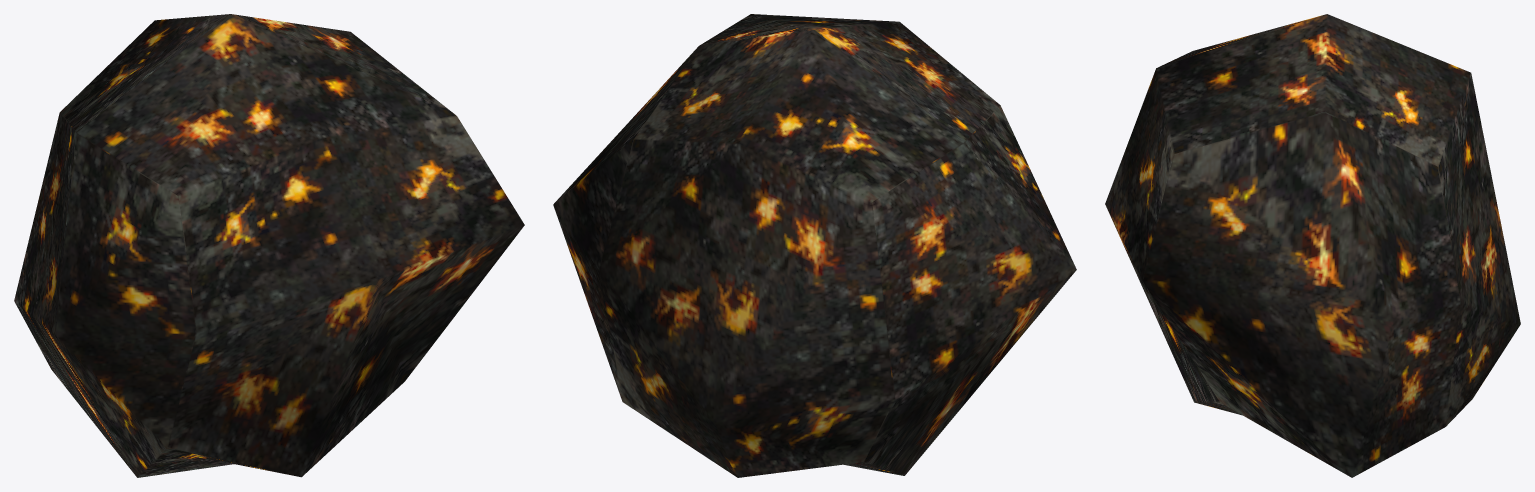
The model's file is asteroid_moltenrock_radial_s03_l2.fbx.
3 views of the same model, side by side, from view 1: azimuth 30°, elevation 25°; view 2: azimuth 150°, elevation 25°; view 3: azimuth 270°, elevation 25° (orthographic). The views are drawn at different scales.
Visible parts, largest first — view 1: mesh_node; view 2: mesh_node; view 3: mesh_node.
Part boxes in pixels (x1,y1,x2,y2): mesh_node: (14, 14, 524, 477); mesh_node: (553, 14, 1076, 477); mesh_node: (1105, 14, 1520, 477).
Bounding box in the file's own units: 5.75 × 5.36 × 4.78.
Materials: 1 (1 with a texture image).
